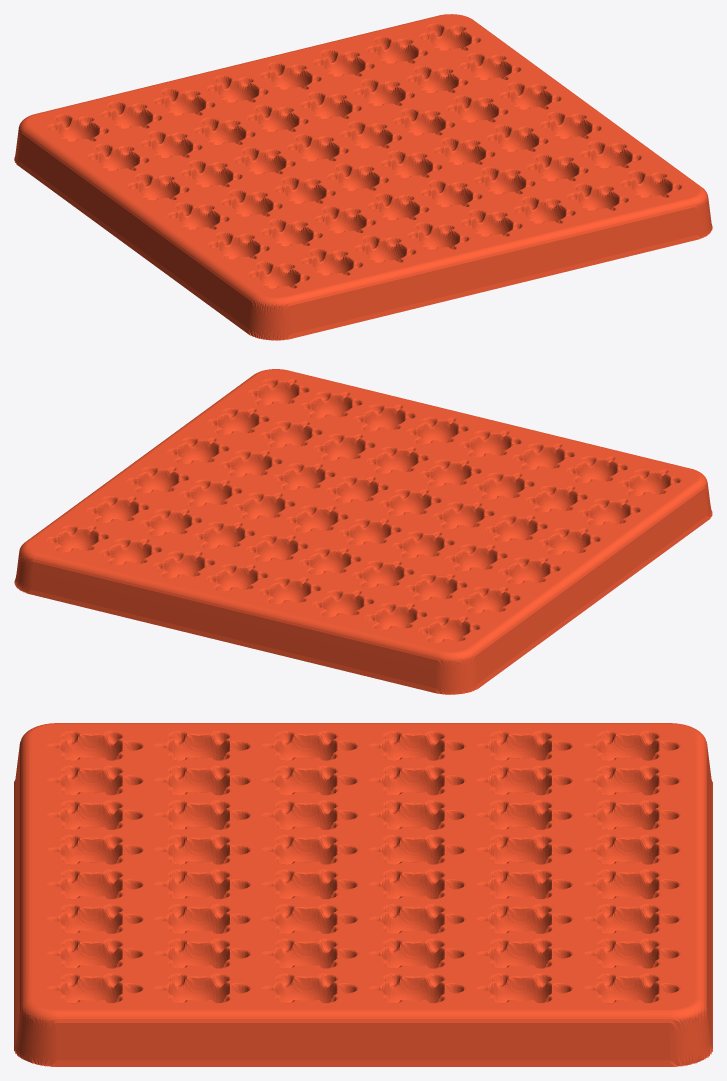
The model's file is mold.glb.
3 views of the same model, one above another, from view 1: azimuth 30°, elevation 25°; view 2: azimuth 150°, elevation 25°; view 3: azimuth 270°, elevation 25° (orthographic). The views are drawn at different scales.
Visible parts, largest first — view 1: geometry_0; view 2: geometry_0; view 3: geometry_0.
Part boxes in pixels (x1=…): geometry_0: x1=14, y1=14, x2=712, y2=340; geometry_0: x1=14, y1=369, x2=712, y2=694; geometry_0: x1=14, y1=723, x2=712, y2=1066.
Bounding box in the file's own units: 0.1468 × 0.0114 × 0.1443.
